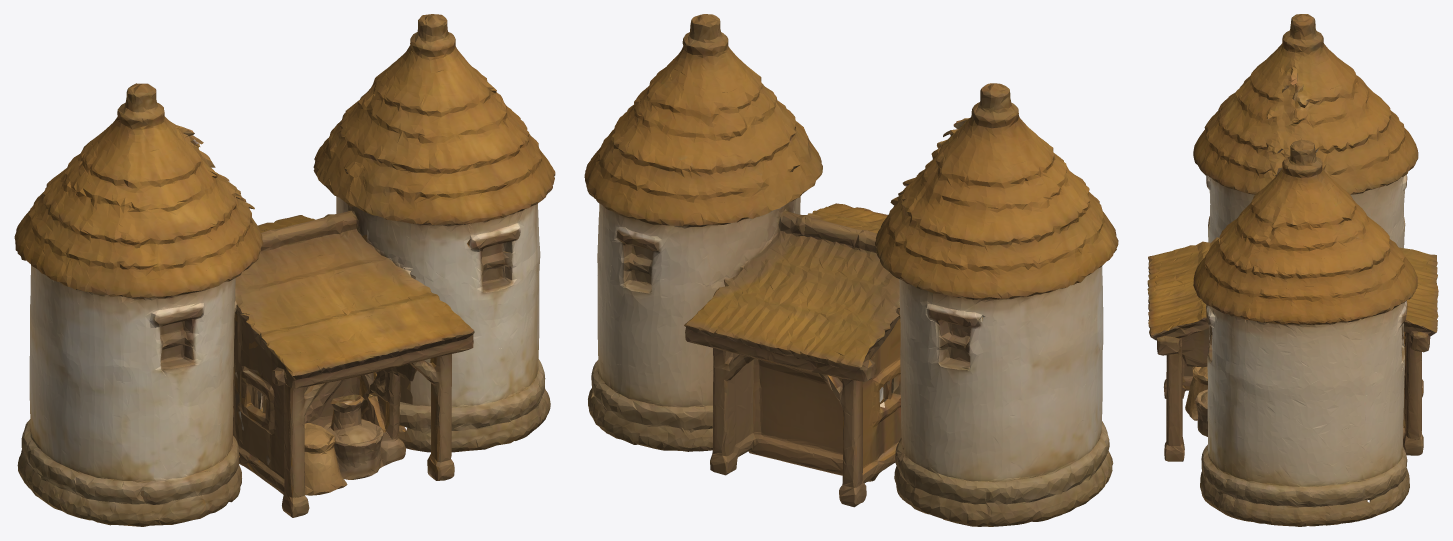
The model's file is wc-granary-paint.glb.
3 views of the same model, side by side, from view 1: azimuth 30°, elevation 25°; view 2: azimuth 150°, elevation 25°; view 3: azimuth 270°, elevation 25° (orthographic). The views are drawn at different scales.
Visible parts, largest first — view 1: geometry_0; view 2: geometry_0; view 3: geometry_0.
Part boxes in pixels (box(x1,y1,x2,y2)): geometry_0: box(14, 14, 555, 526); geometry_0: box(584, 14, 1118, 526); geometry_0: box(1147, 14, 1438, 526).
Size of the model in its own units: 2 by 1.52 by 1.16.
1 material, 1 textured.
